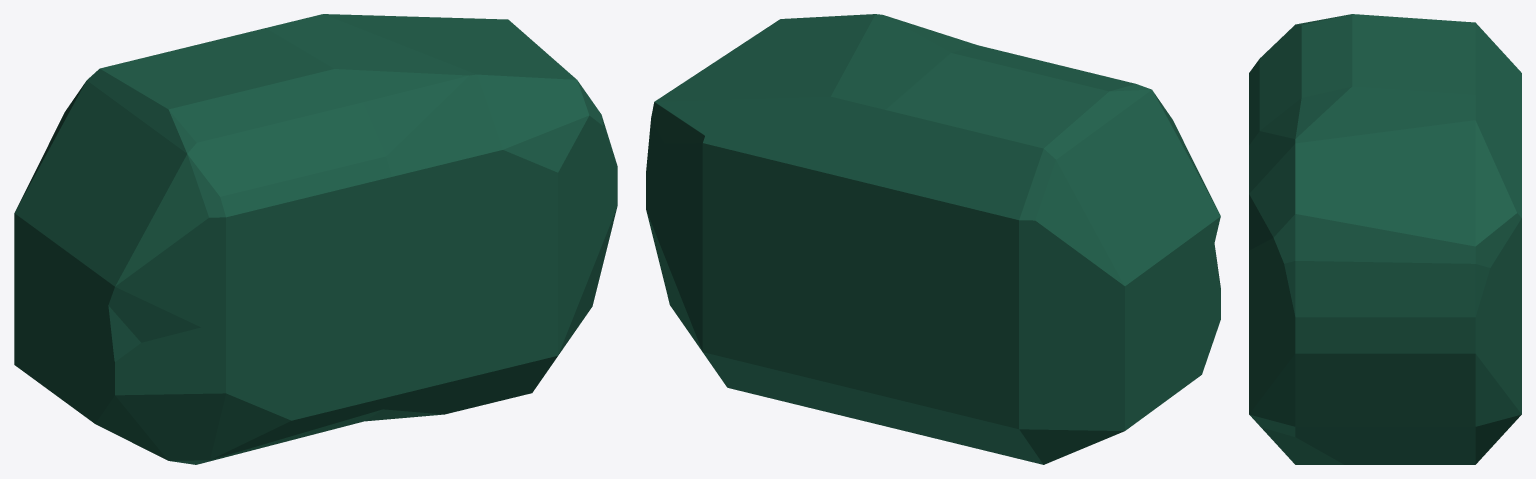
The model's file is GREEN CRYSTAL.fbx.
The picture shows the model from 3 angles, left to right: view 1: azimuth 30°, elevation 25°; view 2: azimuth 150°, elevation 25°; view 3: azimuth 270°, elevation 25°; orthographic projection. The views are drawn at different scales.
Parts seen in each view (by area): view 1: Cube.236; view 2: Cube.236; view 3: Cube.236.
Part boxes in pixels (bbox=[...]): Cube.236: bbox=[14, 14, 617, 464]; Cube.236: bbox=[646, 14, 1220, 464]; Cube.236: bbox=[1249, 14, 1521, 464].
Bounding box in the file's own units: 220 × 143 × 116.
